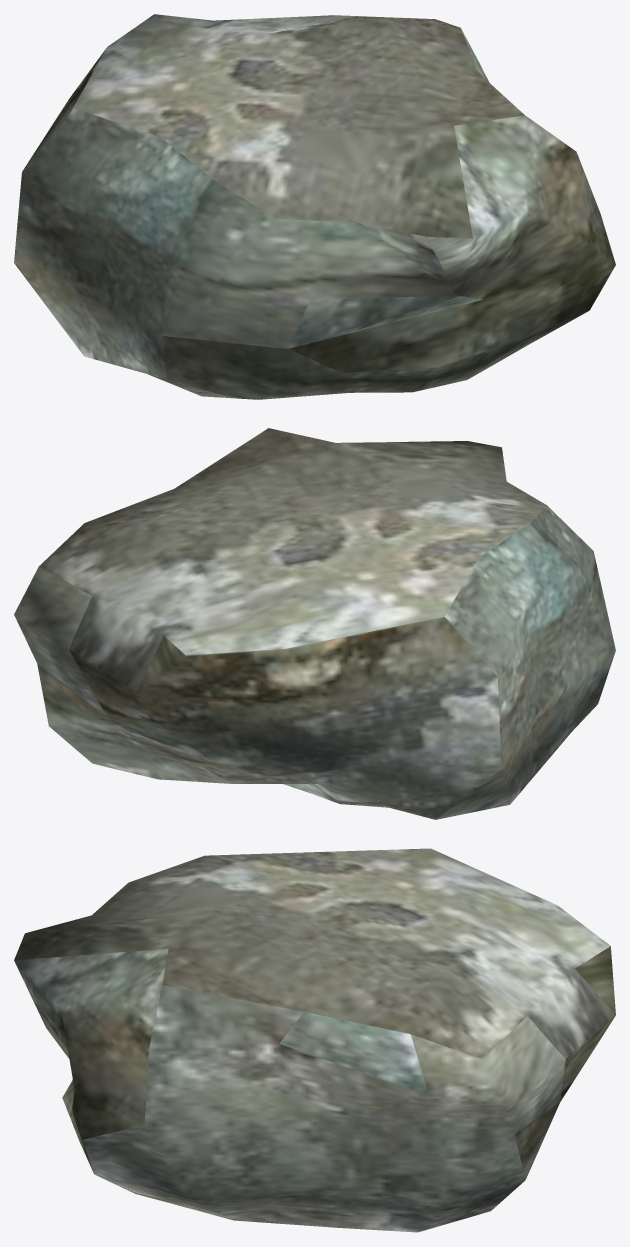
The model's file is Rock01.obj.
3 renders of one model, top to bottom at view 1: azimuth 30°, elevation 25°; view 2: azimuth 150°, elevation 25°; view 3: azimuth 270°, elevation 25°, orthographic.
Visible parts, largest first — view 1: Cube.001; view 2: Cube.001; view 3: Cube.001.
Boxes of the visible parts, x1=… form: Cube.001: x1=14, y1=14, x2=615, y2=399; Cube.001: x1=14, y1=428, x2=615, y2=819; Cube.001: x1=14, y1=848, x2=615, y2=1232.
Bounding box in the file's own units: 3.18 × 1.68 × 3.63.
1 material, 1 textured.
